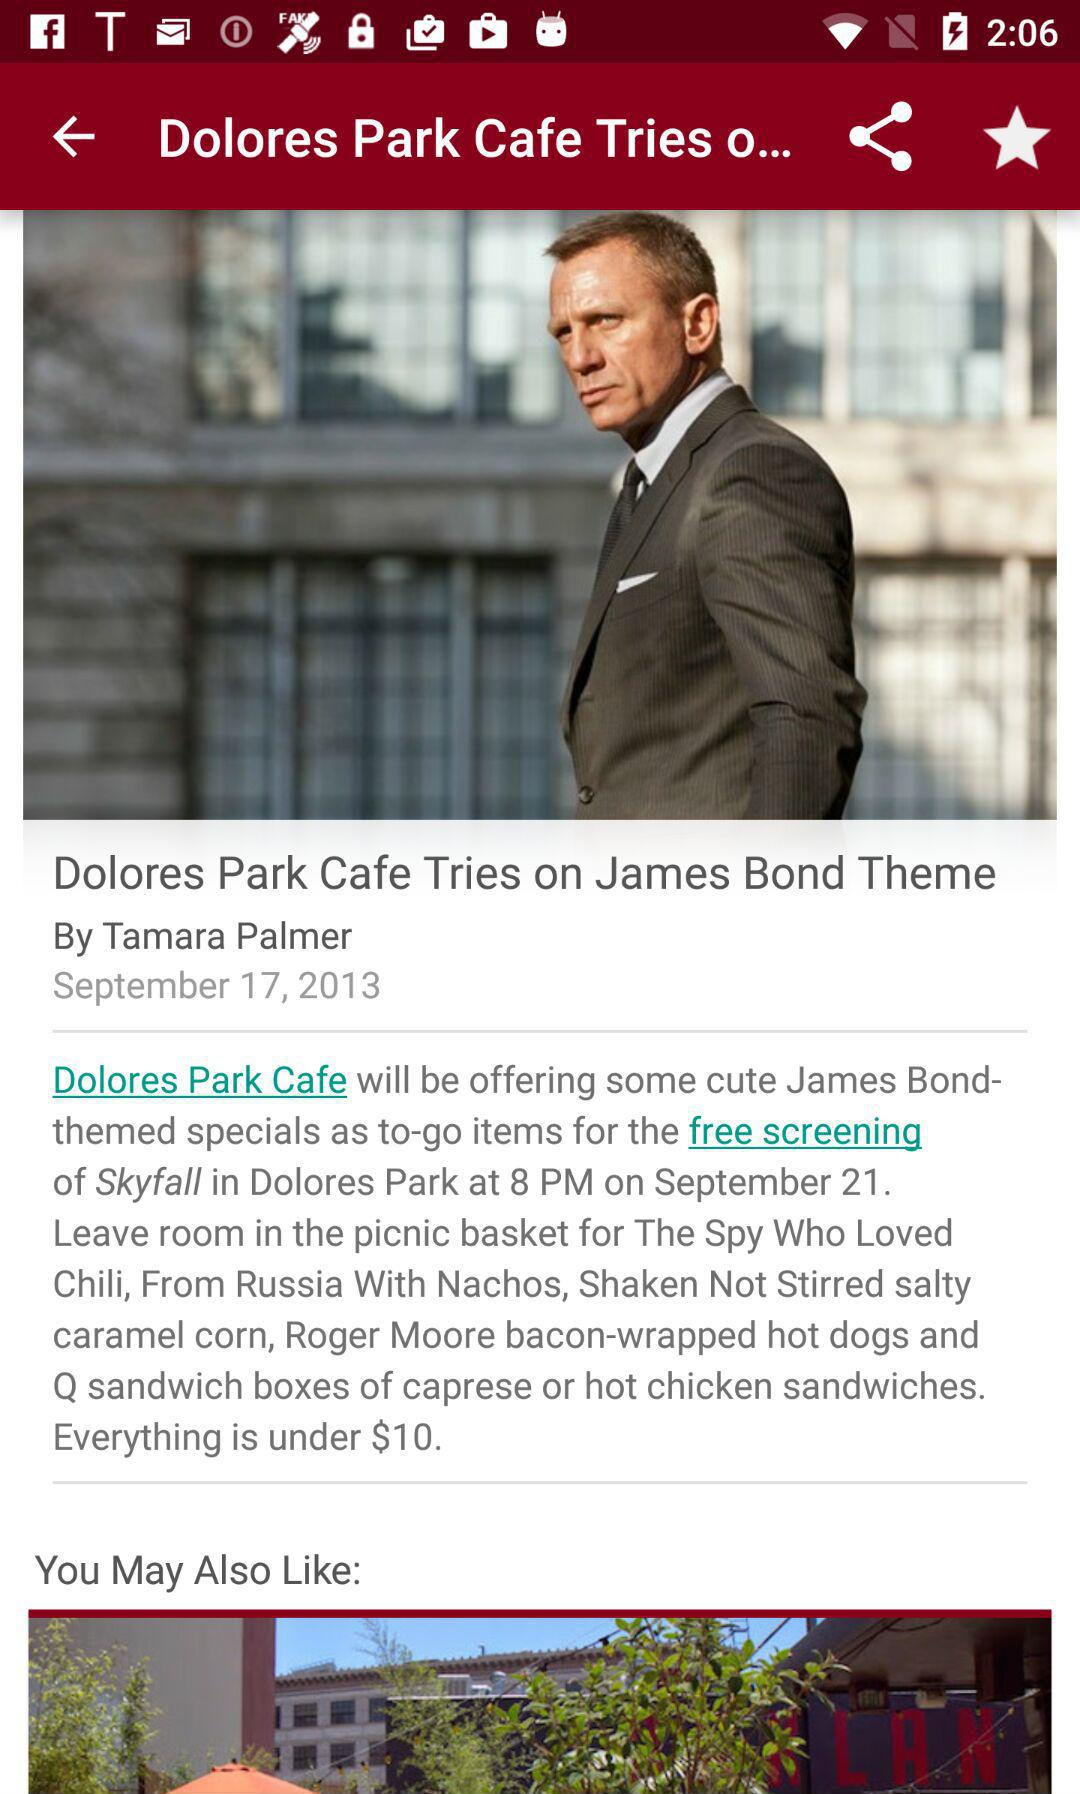Icon: (848, 101, 913, 173), (983, 105, 1052, 172), (53, 115, 97, 159)
Image: (22, 211, 1058, 821), (28, 1609, 1053, 1794)
Text: (53, 1064, 1003, 1460), (55, 853, 995, 891), (161, 117, 790, 159), (35, 1553, 361, 1594), (53, 969, 380, 1007), (55, 920, 354, 959)
Toolbar: (1, 67, 1080, 208)
UpperTaskBar: (1, 1, 1080, 64)
